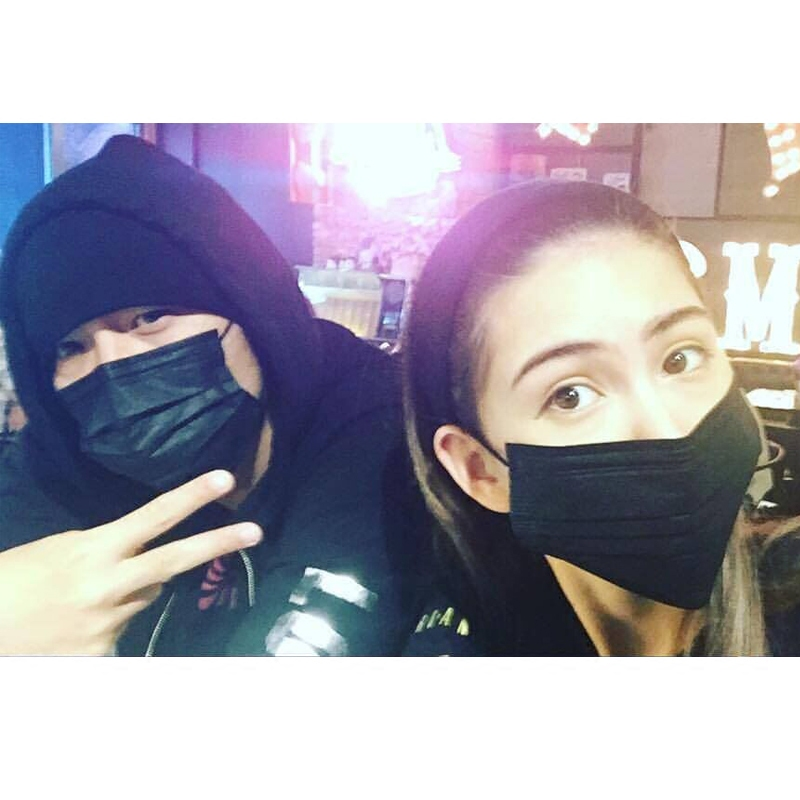face_mask: (482, 230, 750, 590), (51, 266, 242, 499)
